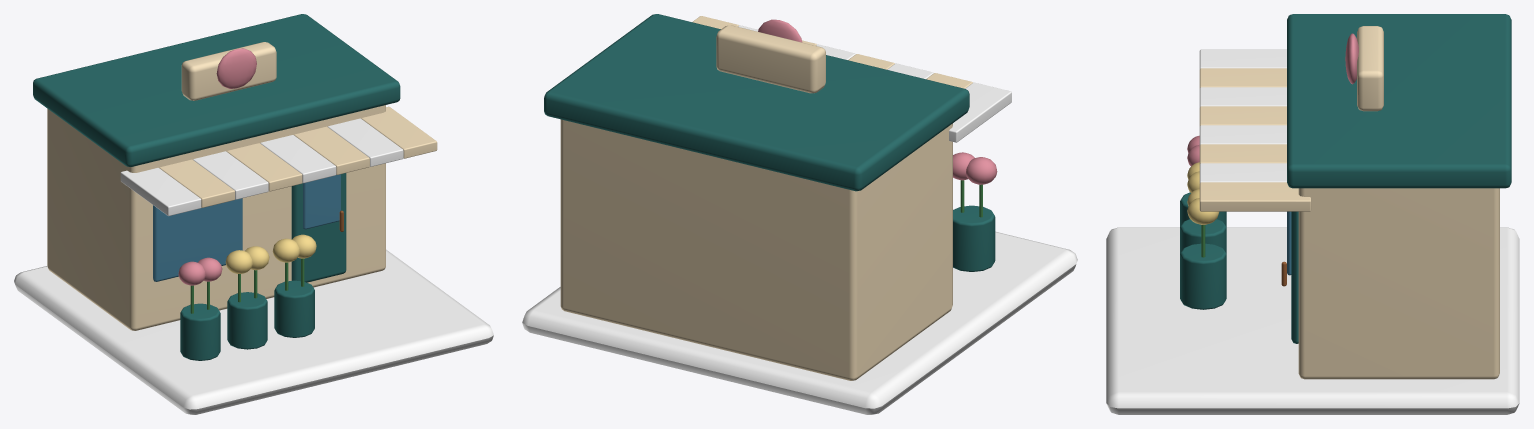
File: flower-shop.glb
The picture shows the model from 3 angles, left to right: view 1: azimuth 30°, elevation 25°; view 2: azimuth 150°, elevation 25°; view 3: azimuth 270°, elevation 25°; orthographic projection. The views are drawn at different scales.
Visible parts, largest first — view 1: Batch_Warm plaster_, Batch_Porcelain_, Batch_Teal door_, ShopWindow, Door, Batch_Petal pink_, Batch_Butter yellow_, Door glass, Batch_Leaves_; view 2: Batch_Warm plaster_, Batch_Teal door_, Batch_Porcelain_, Batch_Petal pink_; view 3: Batch_Porcelain_, Batch_Warm plaster_, Batch_Teal door_, Door, Batch_Butter yellow_, Batch_Petal pink_.
Part boxes in pixels (left/top/right/bottom): Batch_Warm plaster_: left=47, top=42, right=437, bottom=330; Batch_Porcelain_: left=14, top=118, right=493, bottom=414; Batch_Teal door_: left=33, top=14, right=400, bottom=360; ShopWindow: left=153, top=198, right=242, bottom=281; Door: left=291, top=173, right=346, bottom=282; Batch_Petal pink_: left=178, top=48, right=256, bottom=285; Batch_Butter yellow_: left=225, top=234, right=316, bottom=273; Door glass: left=303, top=174, right=340, bottom=229; Batch_Leaves_: left=190, top=258, right=304, bottom=313; Batch_Warm plaster_: left=560, top=16, right=972, bottom=380; Batch_Teal door_: left=544, top=14, right=995, bottom=271; Batch_Porcelain_: left=522, top=25, right=1077, bottom=414; Batch_Petal pink_: left=758, top=19, right=997, bottom=184; Batch_Porcelain_: left=1106, top=49, right=1519, bottom=414; Batch_Warm plaster_: left=1199, top=26, right=1499, bottom=379; Batch_Teal door_: left=1180, top=14, right=1511, bottom=309; Door: left=1291, top=211, right=1298, bottom=343; Batch_Butter yellow_: left=1187, top=162, right=1219, bottom=224; Batch_Petal pink_: left=1187, top=33, right=1358, bottom=166.
Bounding box in the file's own units: 2.3 × 1.82 × 2.3.
